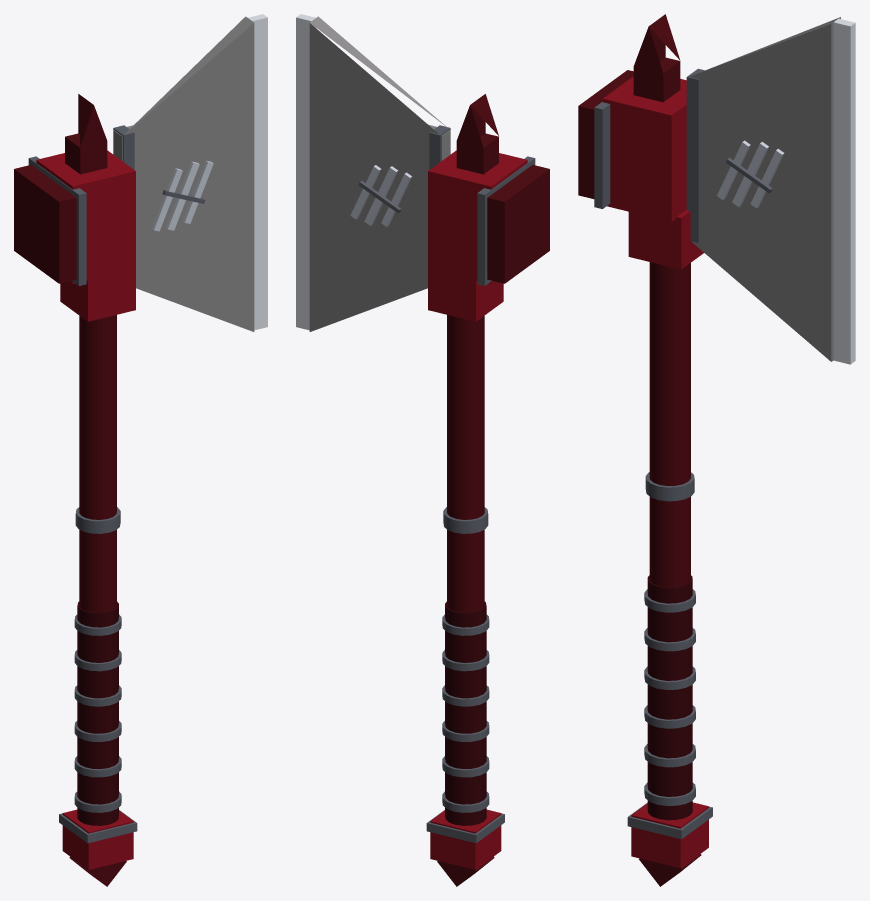
3 views of the same model, side by side, from view 1: azimuth 30°, elevation 25°; view 2: azimuth 150°, elevation 25°; view 3: azimuth 330°, elevation 25° (orthographic). The views are drawn at different scales.
Visible parts, largest first — view 1: ravager-axe; view 2: ravager-axe; view 3: ravager-axe.
Part boxes in pixels (bbox=[...]): ravager-axe: bbox=[14, 14, 267, 886]; ravager-axe: bbox=[296, 14, 549, 886]; ravager-axe: bbox=[578, 14, 855, 886].
Size of the model in its own units: 0.3583 by 1.23 by 0.1364.
